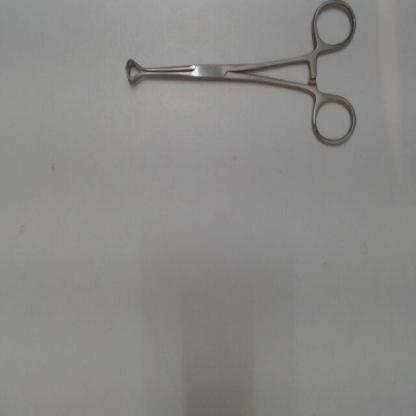Babcock Tissue Forceps: (117, 2, 361, 156)
